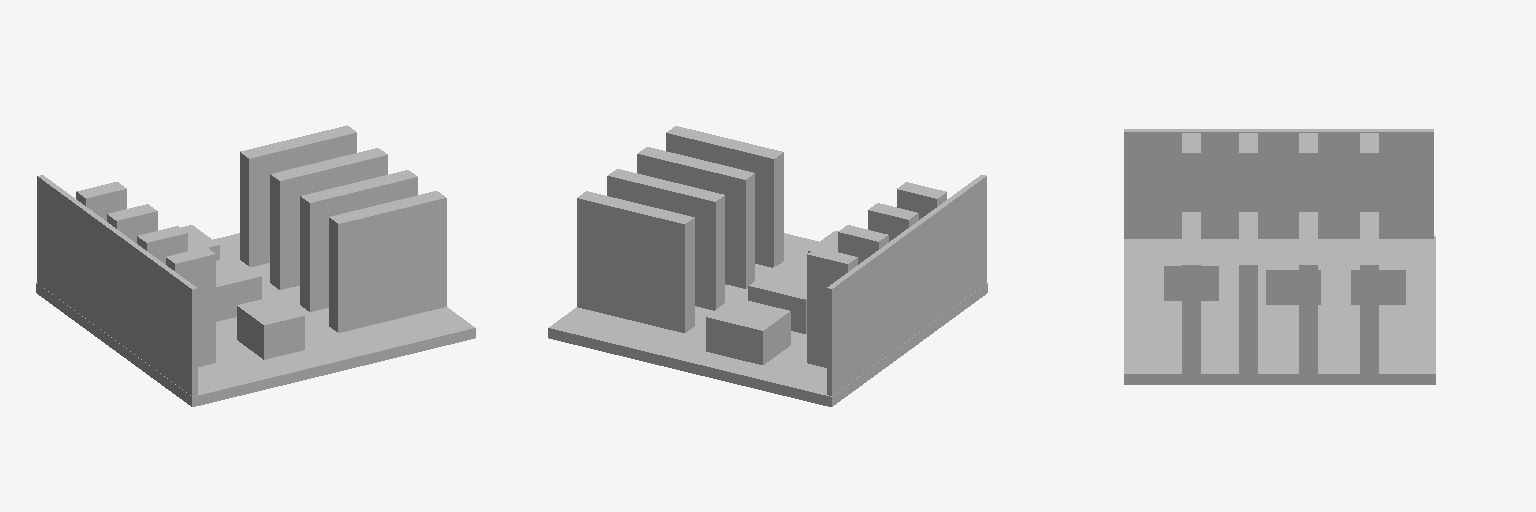
The model's file is minimap.obj.
The picture shows the model from 3 angles: view 1: azimuth 30°, elevation 25°; view 2: azimuth 150°, elevation 25°; view 3: azimuth 270°, elevation 25°; orthographic projection.
Parts seen in each view (by area): view 1: Cube.012, Cube, Cube.001, Cube.004, Cube.003, Cube.002, Cube.009, Cube.008, Cube.010, Cube.005, Cube.006, Cube.007 (+1 smaller); view 2: Cube.012, Cube.004, Cube, Cube.003, Cube.002, Cube.001, Cube.011, Cube.005, Cube.010, Cube.006, Cube.007, Cube.008; view 3: Cube, Cube.012, Cube.001, Cube.002, Cube.003, Cube.004, Cube.010, Cube.011, Cube.009, Cube.005, Cube.006, Cube.007 (+1 smaller).
Part boxes in pixels (x1,y1,x2,y2): Cube.012: (37, 175, 197, 396); Cube: (36, 233, 475, 406); Cube.001: (329, 191, 446, 332); Cube.004: (240, 125, 356, 266); Cube.003: (270, 148, 387, 289); Cube.002: (300, 170, 417, 311); Cube.009: (237, 295, 304, 359); Cube.008: (166, 247, 215, 366); Cube.010: (216, 256, 261, 321); Cube.005: (76, 182, 126, 220); Cube.006: (107, 204, 157, 242); Cube.007: (137, 226, 187, 264); Cube.012: (827, 175, 986, 395); Cube.004: (577, 191, 694, 332); Cube: (548, 233, 987, 406); Cube.003: (607, 169, 724, 310); Cube.002: (637, 147, 754, 288); Cube.001: (666, 126, 783, 267); Cube.011: (706, 297, 790, 364); Cube.005: (807, 247, 857, 367); Cube.010: (748, 266, 806, 333); Cube.006: (838, 225, 888, 264); Cube.007: (868, 203, 918, 241); Cube.008: (897, 182, 946, 219); Cube: (1124, 236, 1435, 384); Cube.012: (1124, 129, 1433, 238); Cube.001: (1182, 212, 1200, 373); Cube.002: (1239, 212, 1257, 373); Cube.003: (1299, 212, 1317, 373); Cube.004: (1360, 212, 1378, 373); Cube.010: (1266, 242, 1320, 304); Cube.011: (1351, 242, 1405, 304); Cube.009: (1164, 246, 1218, 300); Cube.005: (1360, 133, 1378, 211); Cube.006: (1299, 133, 1317, 211); Cube.007: (1239, 133, 1257, 211).
Bounding box in the file's own units: 6.86 × 2.77 × 6.54.